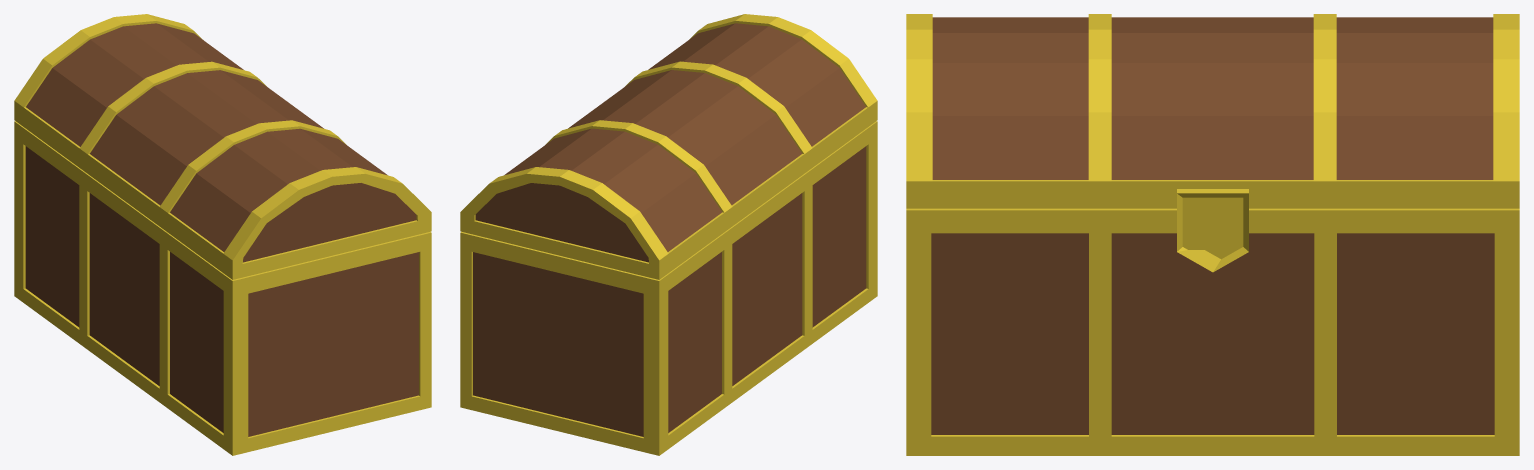
The model's file is 宝箱色.fbx.
3 views of the same model, side by side, from view 1: azimuth 30°, elevation 25°; view 2: azimuth 150°, elevation 25°; view 3: azimuth 270°, elevation 25° (orthographic). The views are drawn at different scales.
Parts seen in each view (by area): view 1: Cube, Cube.001; view 2: Cube, Cube.001; view 3: Cube, Cube.001.
Boxes of the visible parts, x1,y1,x2,y2 form: Cube: (14,121,431,455); Cube.001: (14,14,431,279); Cube: (460,121,877,455); Cube.001: (460,14,877,279); Cube: (906,208,1519,455); Cube.001: (906,14,1519,272).
Size of the model in its own units: 263 by 311 by 483.
